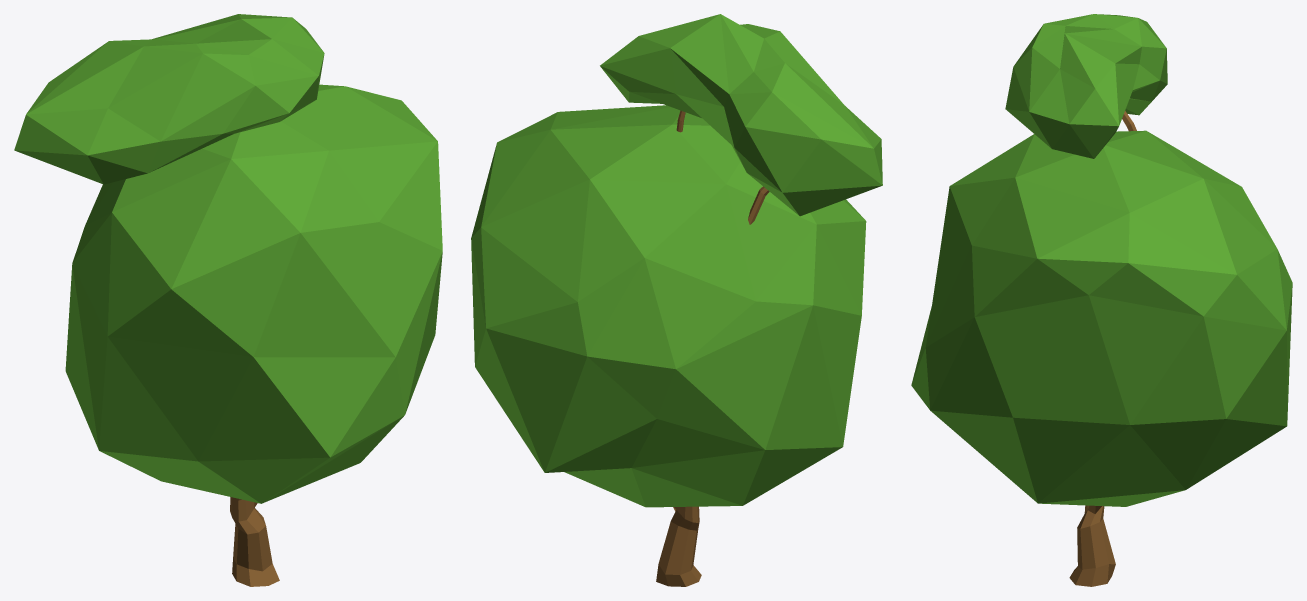
The model's file is result.gltf.
3 views of the same model, side by side, from view 1: azimuth 30°, elevation 25°; view 2: azimuth 150°, elevation 25°; view 3: azimuth 270°, elevation 25° (orthographic). The views are drawn at different scales.
Parts seen in each view (by area): view 1: Bush_3; view 2: Bush_3; view 3: Bush_3.
Part boxes in pixels (x1=…): Bush_3: x1=14, y1=14, x2=442, y2=586; Bush_3: x1=471, y1=14, x2=882, y2=586; Bush_3: x1=911, y1=14, x2=1292, y2=586.
Size of the model in its own units: 176 by 248 by 161.
